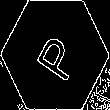P_NW: (28, 26, 82, 84)
